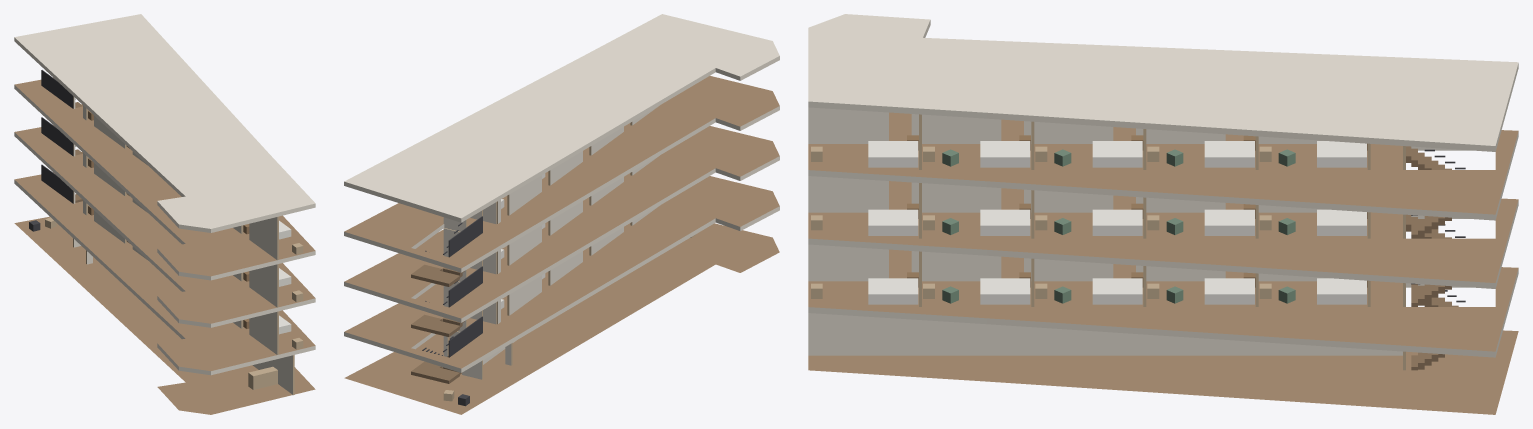
Rendered from interior.glb.
The picture shows the model from 3 angles, left to right: view 1: azimuth 30°, elevation 25°; view 2: azimuth 150°, elevation 25°; view 3: azimuth 270°, elevation 25°; orthographic projection. The views are drawn at different scales.
Parts seen in each view (by area): view 1: slabs, partitions, stair, coarse-s0, coarse-s2, coarse-s3, coarse-s1; view 2: slabs, partitions, stair; view 3: slabs, partitions, coarse-s3, coarse-s1, coarse-s2, stair.
Part boxes in pixels (x1=…): slabs: x1=14, y1=14, x2=315, y2=414; partitions: x1=73, y1=96, x2=294, y2=395; stair: x1=41, y1=70, x2=82, y2=203; coarse-s0: x1=29, y1=217, x2=277, y2=389; coarse-s2: x1=88, y1=158, x2=303, y2=301; coarse-s3: x1=88, y1=110, x2=303, y2=254; coarse-s1: x1=88, y1=205, x2=303, y2=349; slabs: x1=344, y1=14, x2=779, y2=414; partitions: x1=443, y1=105, x2=659, y2=379; stair: x1=411, y1=216, x2=482, y2=383; slabs: x1=808, y1=14, x2=1518, y2=414; partitions: x1=808, y1=107, x2=1405, y2=370; coarse-s3: x1=811, y1=135, x2=1367, y2=167; coarse-s1: x1=811, y1=272, x2=1367, y2=304; coarse-s2: x1=811, y1=203, x2=1367, y2=235; stair: x1=1406, y1=146, x2=1465, y2=370.
Size of the model in its own units: 12.45 by 11.83 by 28.28.
